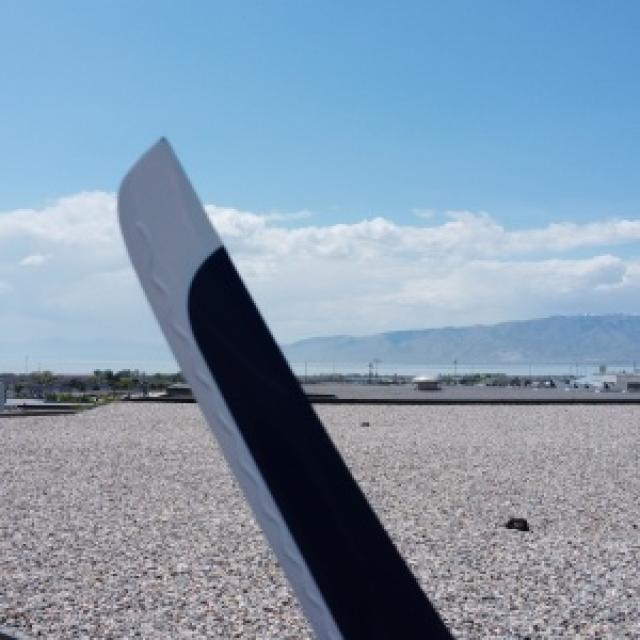healthy: (119, 139, 452, 638)
